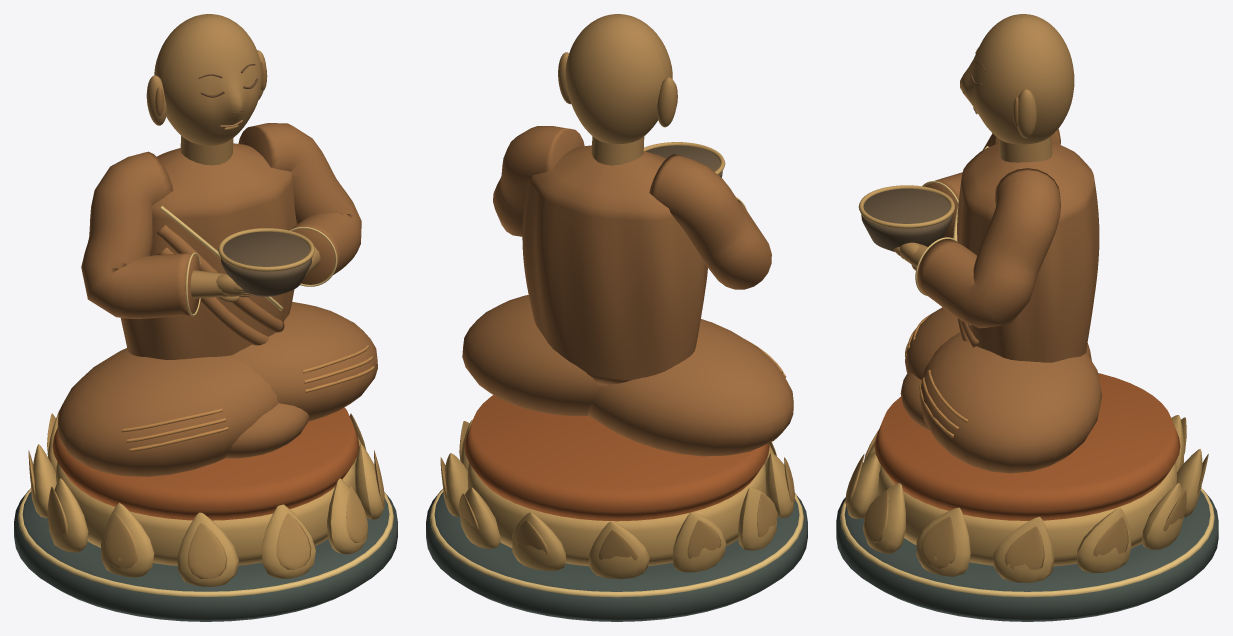
The model's file is arhat_03.glb.
3 renders of one model, left to right at view 1: azimuth 30°, elevation 25°; view 2: azimuth 150°, elevation 25°; view 3: azimuth 270°, elevation 25°, orthographic.
Parts seen in each view (by area): view 1: arhat_03_ArhatDrapery, arhat_03_AntiqueGold, arhat_03_CarvedPlinth, arhat_03_SaffronDrapery, arhat_03_WarmBronze, arhat_03_GoldPetalRelief, arhat_03_PatinatedBowl, arhat_03_RaisedGoldBorders, arhat_03_DraperyFoldHighlights; view 2: arhat_03_ArhatDrapery, arhat_03_SaffronDrapery, arhat_03_AntiqueGold, arhat_03_CarvedPlinth, arhat_03_WarmBronze, arhat_03_GoldPetalRelief, arhat_03_RaisedGoldBorders, arhat_03_PatinatedBowl; view 3: arhat_03_ArhatDrapery, arhat_03_SaffronDrapery, arhat_03_AntiqueGold, arhat_03_CarvedPlinth, arhat_03_WarmBronze, arhat_03_GoldPetalRelief, arhat_03_PatinatedBowl, arhat_03_RaisedGoldBorders, arhat_03_DraperyFoldHighlights.
Boxes of the visible parts, left/top/right/bottom form: arhat_03_ArhatDrapery: left=57, top=123, right=377, bottom=476; arhat_03_AntiqueGold: left=31, top=228, right=384, bottom=586; arhat_03_CarvedPlinth: left=14, top=490, right=397, bottom=621; arhat_03_SaffronDrapery: left=52, top=407, right=359, bottom=520; arhat_03_WarmBronze: left=146, top=14, right=320, bottom=302; arhat_03_GoldPetalRelief: left=28, top=413, right=384, bottom=578; arhat_03_PatinatedBowl: left=220, top=231, right=312, bottom=296; arhat_03_RaisedGoldBorders: left=18, top=206, right=393, bottom=597; arhat_03_DraperyFoldHighlights: left=121, top=344, right=374, bottom=451; arhat_03_ArhatDrapery: left=462, top=126, right=793, bottom=456; arhat_03_SaffronDrapery: left=464, top=395, right=769, bottom=521; arhat_03_AntiqueGold: left=443, top=142, right=794, bottom=579; arhat_03_CarvedPlinth: left=426, top=490, right=807, bottom=621; arhat_03_WarmBronze: left=558, top=14, right=677, bottom=165; arhat_03_GoldPetalRelief: left=440, top=421, right=794, bottom=560; arhat_03_RaisedGoldBorders: left=430, top=197, right=803, bottom=597; arhat_03_PatinatedBowl: left=646, top=145, right=722, bottom=177; arhat_03_ArhatDrapery: left=900, top=128, right=1102, bottom=473; arhat_03_SaffronDrapery: left=874, top=373, right=1180, bottom=520; arhat_03_AntiqueGold: left=846, top=185, right=1202, bottom=582; arhat_03_CarvedPlinth: left=836, top=490, right=1218, bottom=621; arhat_03_WarmBronze: left=893, top=14, right=1074, bottom=270; arhat_03_GoldPetalRelief: left=845, top=417, right=1208, bottom=569; arhat_03_PatinatedBowl: left=861, top=188, right=952, bottom=251; arhat_03_RaisedGoldBorders: left=840, top=146, right=1214, bottom=597; arhat_03_DraperyFoldHighlights: left=905, top=314, right=967, bottom=437.
Bounding box in the file's own units: 0.92 × 1.4 × 0.92.
